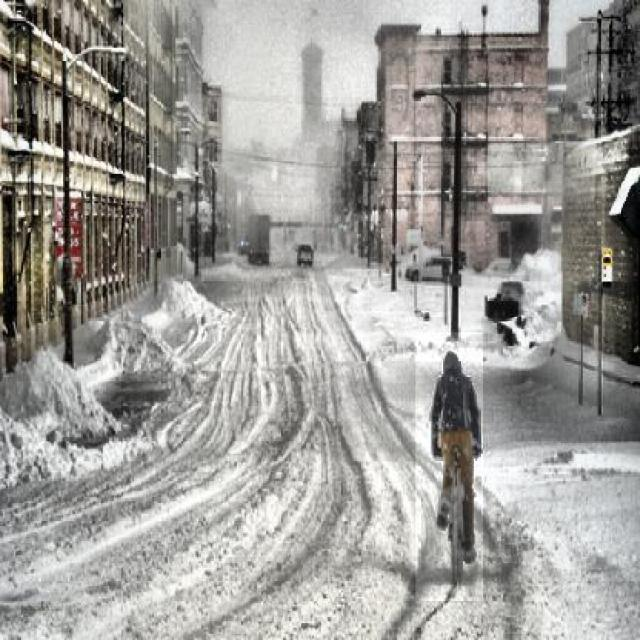bikerider: (417, 332, 485, 600)
